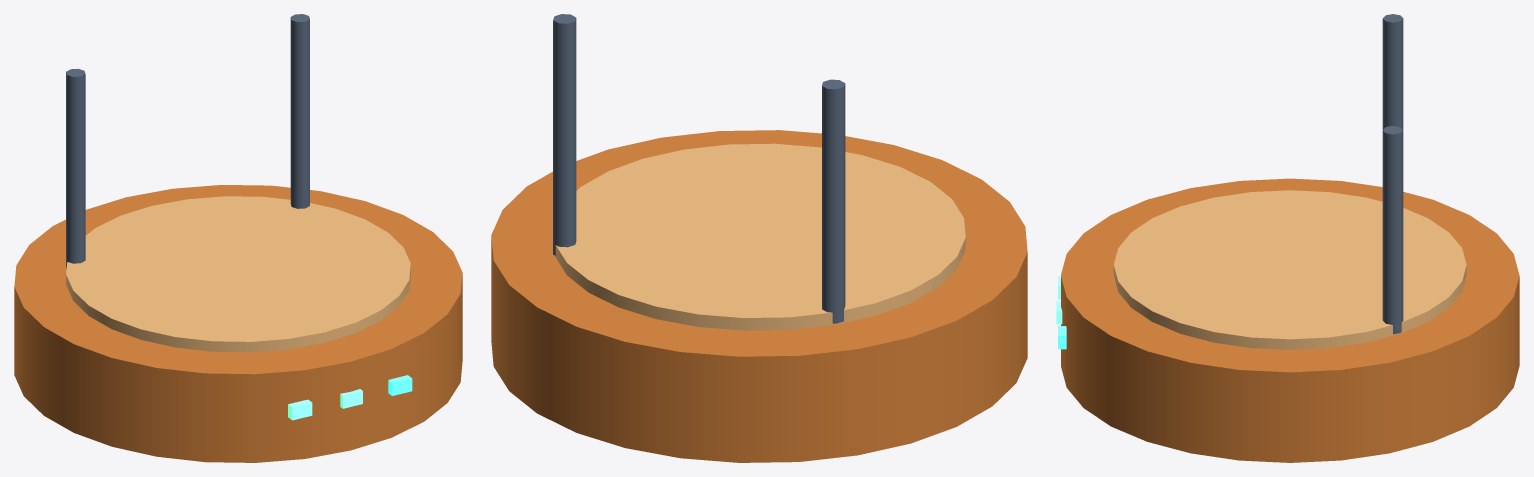
Rendered from router.glb.
The picture shows the model from 3 angles, left to right: view 1: azimuth 30°, elevation 25°; view 2: azimuth 150°, elevation 25°; view 3: azimuth 270°, elevation 25°; orthographic projection. The views are drawn at different scales.
Parts seen in each view (by area): view 1: router; view 2: router; view 3: router.
Part boxes in pixels (<box>): router: <box>14,14,462,462</box>; router: <box>491,14,1027,462</box>; router: <box>1056,14,1519,462</box>.
Bounding box in the file's own units: 1.56 × 1.1 × 1.57.
